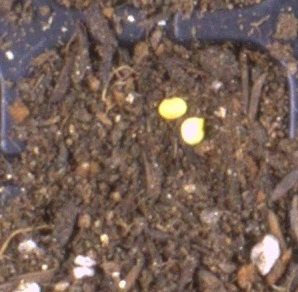chilli seed: (156, 96, 188, 119), (180, 117, 204, 145)
